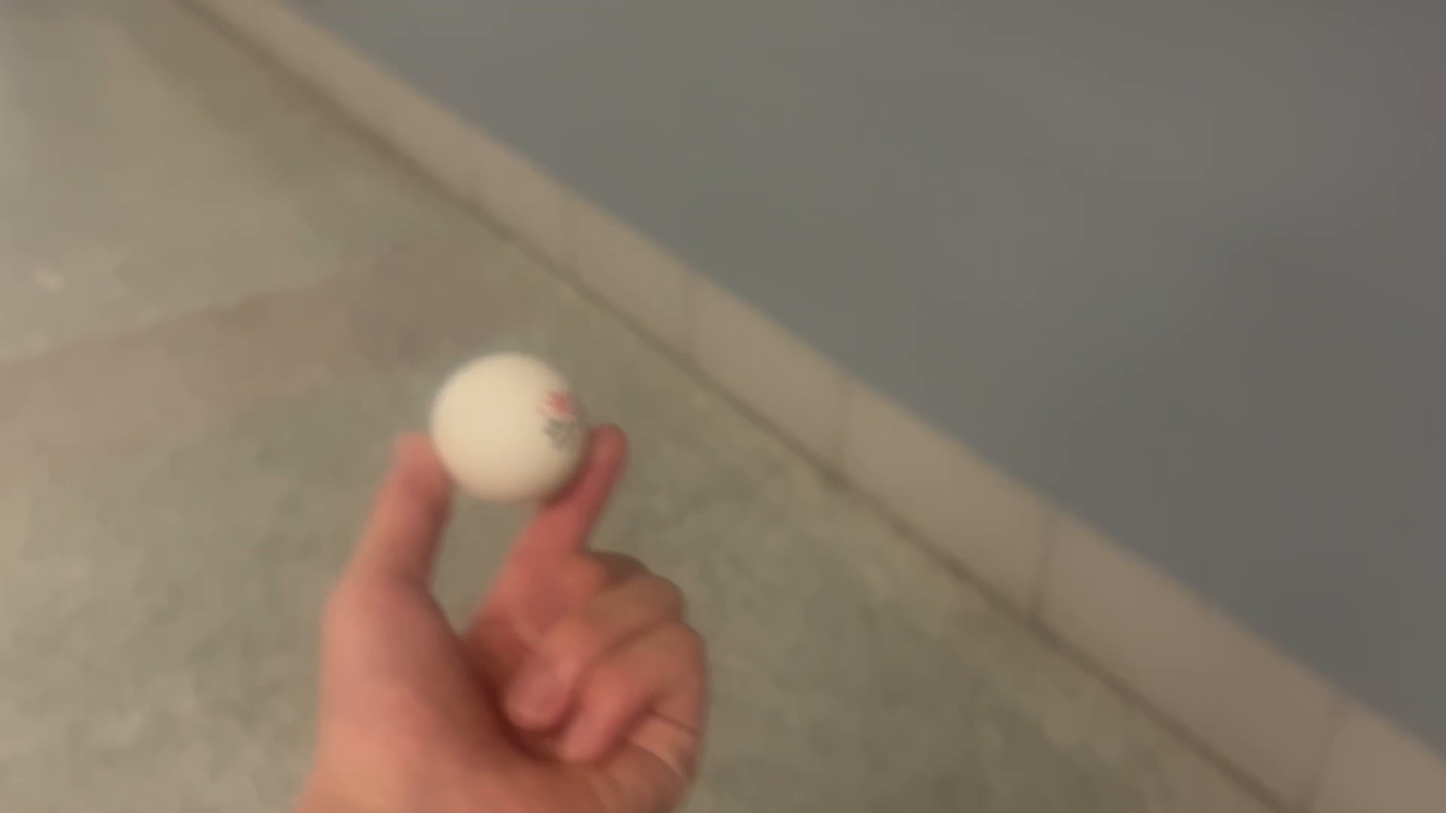Ball: (424, 349, 599, 509)
